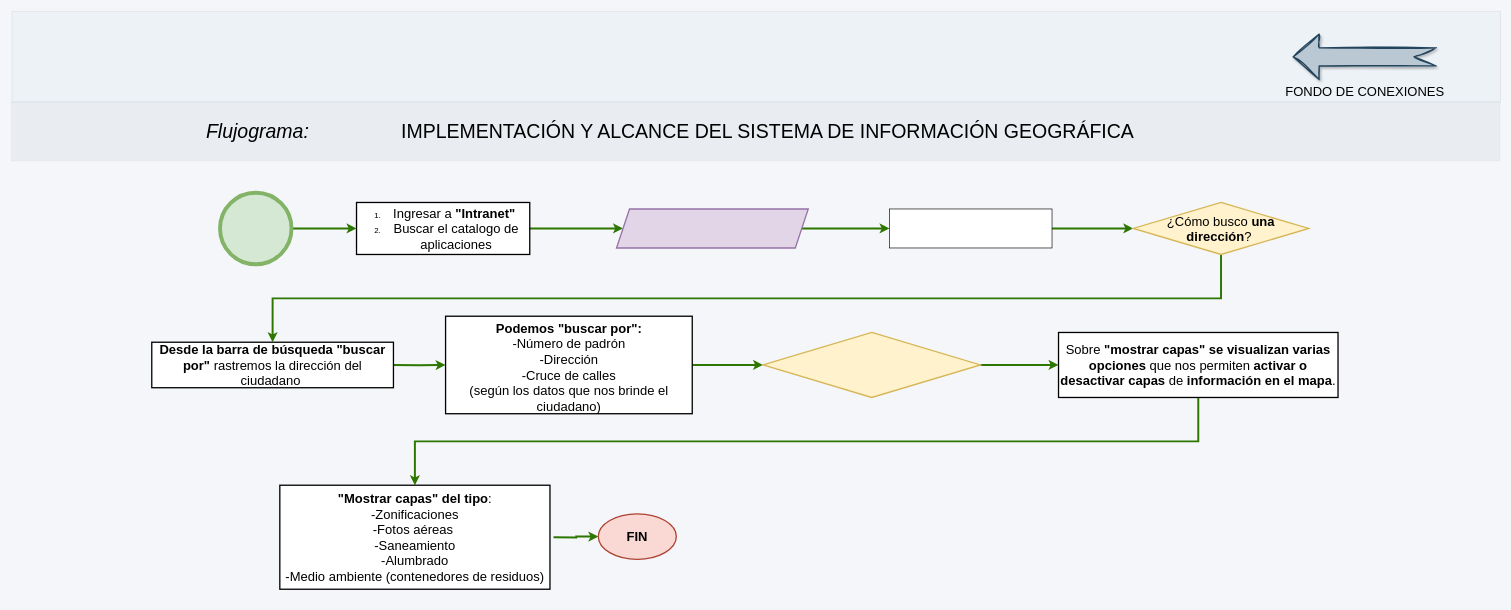
This 1511x610 diagram has some shape labels left out. Each missing label, with the centre of its shape:
Cliquear "Montevimap": (970,228)
INGRESAR AL SISTEMA: SIG: (712,228)
INICIO: (255,228)
¿Dónde puedo obtener más información de esa dirección ?: (871,365)
